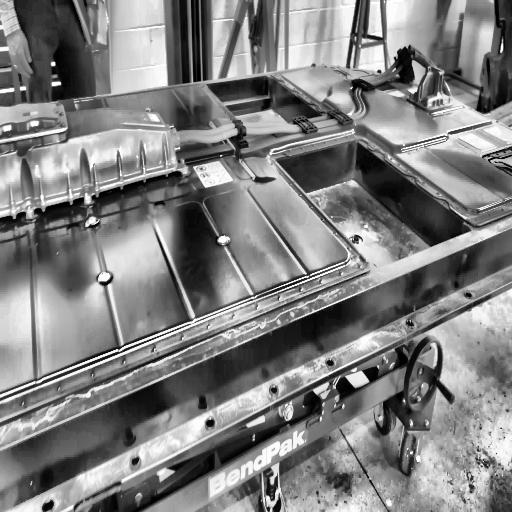battery_module: (180, 139, 284, 147)
bms_unit: (0, 101, 188, 220)
high_volt_cable: (166, 39, 456, 146)
